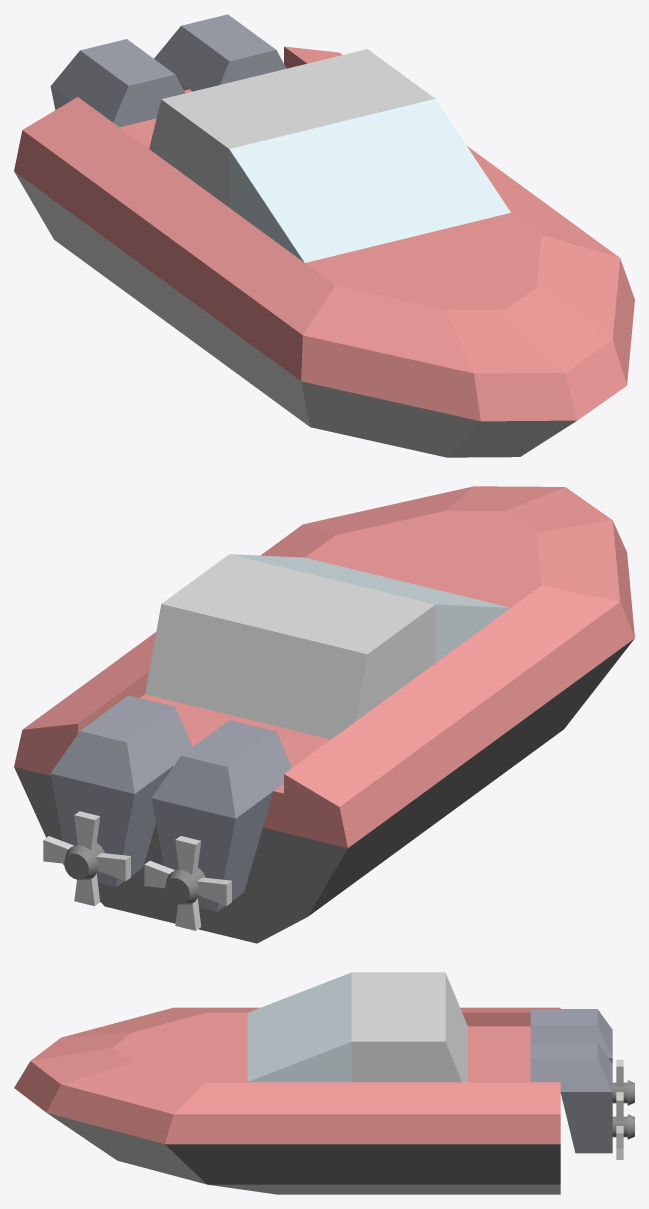
The model's file is watercraftPack_021.glb.
3 views of the same model, one above another, from view 1: azimuth 30°, elevation 25°; view 2: azimuth 150°, elevation 25°; view 3: azimuth 270°, elevation 25° (orthographic). The views are drawn at different scales.
Parts seen in each view (by area): view 1: Mesh1 Group2 Group1 Model, Mesh2 Group3 Group1 Model, Mesh4 Group5 Group1 Model; view 2: Mesh1 Group2 Group1 Model, Mesh2 Group3 Group1 Model, Mesh4 Group5 Group1 Model, Mesh5 Group6 Group1 Model, Mesh3 Group4 Group1 Model; view 3: Mesh1 Group2 Group1 Model, Mesh4 Group5 Group1 Model, Mesh2 Group3 Group1 Model, Mesh3 Group4 Group1 Model.
Boxes of the visible parts, x1=… form: Mesh1 Group2 Group1 Model: x1=14, y1=46, x2=634, y2=457; Mesh2 Group3 Group1 Model: x1=50, y1=39, x2=185, y2=127; Mesh4 Group5 Group1 Model: x1=154, y1=14, x2=286, y2=91; Mesh1 Group2 Group1 Model: x1=14, y1=486, x2=634, y2=943; Mesh2 Group3 Group1 Model: x1=151, y1=720, x2=291, y2=911; Mesh4 Group5 Group1 Model: x1=50, y1=695, x2=192, y2=887; Mesh5 Group6 Group1 Model: x1=144, y1=836, x2=231, y2=930; Mesh3 Group4 Group1 Model: x1=43, y1=811, x2=130, y2=906; Mesh1 Group2 Group1 Model: x1=14, y1=972, x2=560, y2=1194; Mesh4 Group5 Group1 Model: x1=530, y1=1043, x2=634, y2=1153; Mesh2 Group3 Group1 Model: x1=530, y1=1009, x2=634, y2=1105; Mesh3 Group4 Group1 Model: x1=616, y1=1093, x2=623, y2=1159.
Bounding box in the file's own units: 1.78 × 1.2 × 4.17.
